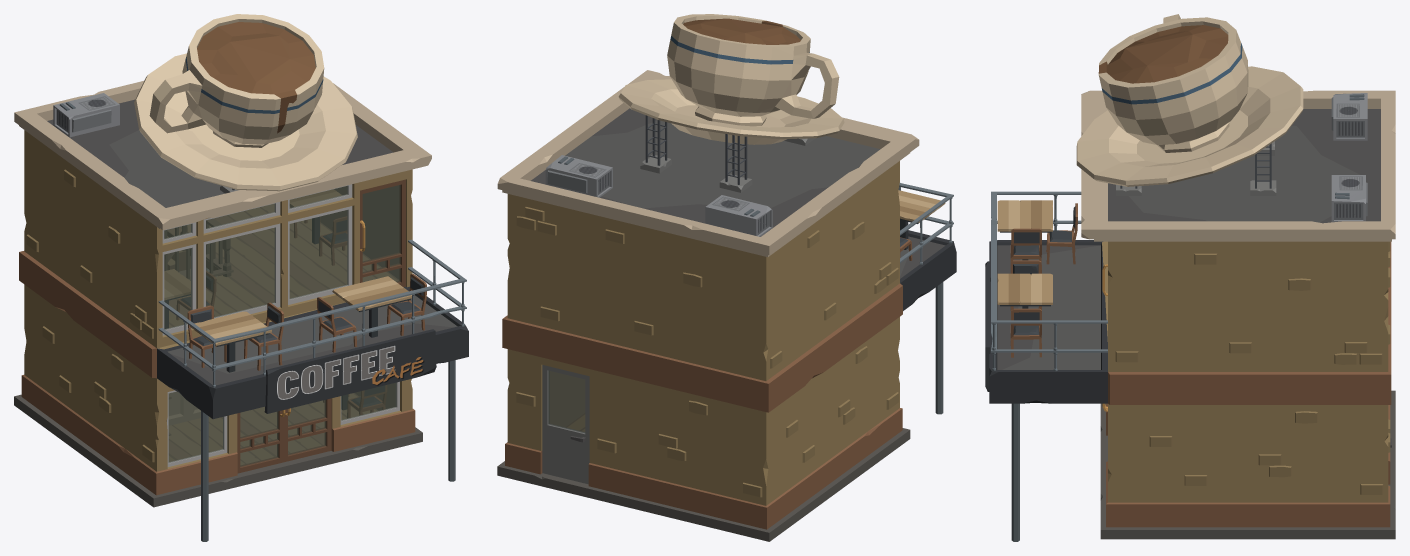
File: SM_Bld_Cafe_01.fbx
The picture shows the model from 3 angles, left to right: view 1: azimuth 30°, elevation 25°; view 2: azimuth 150°, elevation 25°; view 3: azimuth 270°, elevation 25°; orthographic projection. The views are drawn at different scales.
Visible parts, largest first — view 1: SM_Bld_Cafe_01, SM_Bld_Cafe_Cup_Sign_01, SM_Bld_Cafe_Tables_01, SM_Bld_Cafe_Sign_01, SM_Bld_Cafe_Door_03, SM_Bld_Cafe_Door_01, SM_Bld_Cafe_Door_02; view 2: SM_Bld_Cafe_01, SM_Bld_Cafe_Cup_Sign_01, SM_Bld_Cafe_Door_04, SM_Bld_Cafe_Tables_01; view 3: SM_Bld_Cafe_01, SM_Bld_Cafe_Cup_Sign_01, SM_Bld_Cafe_Tables_01, SM_Bld_Cafe_Sign_01.
Part boxes in pixels (left/top/right/bottom): SM_Bld_Cafe_01: left=14, top=81, right=468, bottom=541; SM_Bld_Cafe_Cup_Sign_01: left=134, top=14, right=357, bottom=193; SM_Bld_Cafe_Tables_01: left=164, top=189, right=426, bottom=418; SM_Bld_Cafe_Sign_01: left=264, top=329, right=436, bottom=413; SM_Bld_Cafe_Door_03: left=360, top=179, right=405, bottom=287; SM_Bld_Cafe_Door_01: left=237, top=407, right=285, bottom=473; SM_Bld_Cafe_Door_02: left=284, top=398, right=331, bottom=462; SM_Bld_Cafe_01: left=497, top=70, right=956, bottom=541; SM_Bld_Cafe_Cup_Sign_01: left=618, top=14, right=844, bottom=192; SM_Bld_Cafe_Door_04: left=542, top=365, right=589, bottom=484; SM_Bld_Cafe_Tables_01: left=898, top=190, right=945, bottom=260; SM_Bld_Cafe_01: left=989, top=90, right=1395, bottom=541; SM_Bld_Cafe_Cup_Sign_01: left=1076, top=14, right=1303, bottom=195; SM_Bld_Cafe_Tables_01: left=997, top=200, right=1077, bottom=357; SM_Bld_Cafe_Sign_01: left=985, top=261, right=990, bottom=391.
Bounding box in the file's own units: 580 × 858 × 723.
